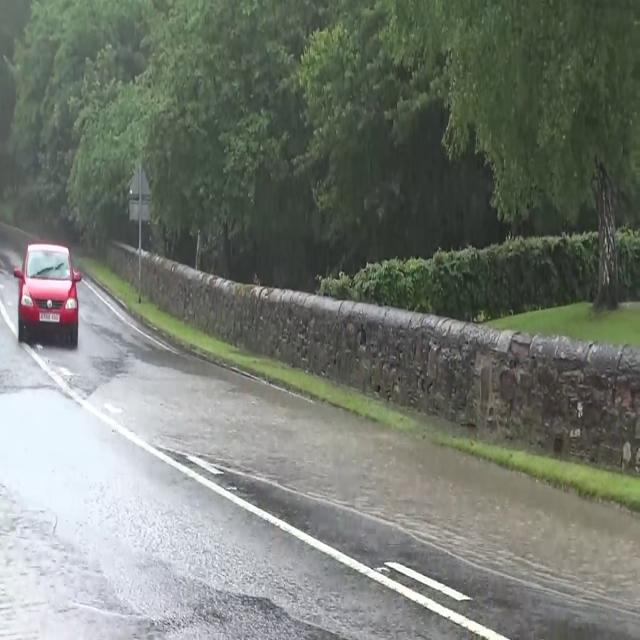license-plate-annotation: (36, 310, 64, 325)
